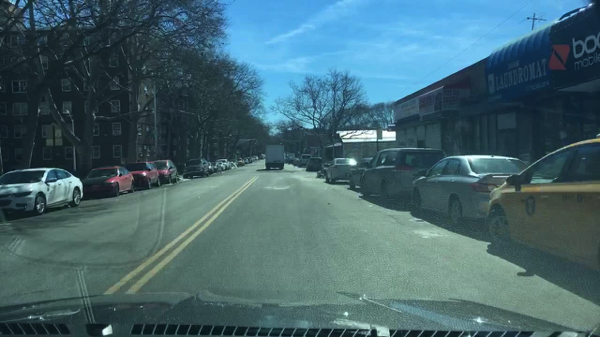car: (482, 132, 599, 272), (410, 153, 529, 226), (359, 147, 446, 205), (1, 167, 85, 216), (80, 164, 135, 195), (124, 162, 159, 190), (347, 158, 374, 191), (324, 159, 358, 185), (154, 158, 180, 186), (183, 156, 212, 179), (307, 156, 323, 172), (300, 154, 312, 167), (217, 158, 229, 169), (214, 162, 225, 171), (207, 162, 214, 175), (286, 157, 294, 165), (294, 157, 301, 165), (236, 158, 242, 167), (248, 157, 252, 164), (243, 157, 247, 164), (259, 155, 264, 160), (253, 156, 257, 161), (231, 162, 235, 167)
truck: (264, 143, 286, 169)
